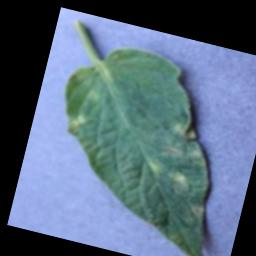Leaf_Mold: (64, 111, 87, 136), (166, 169, 189, 187)
